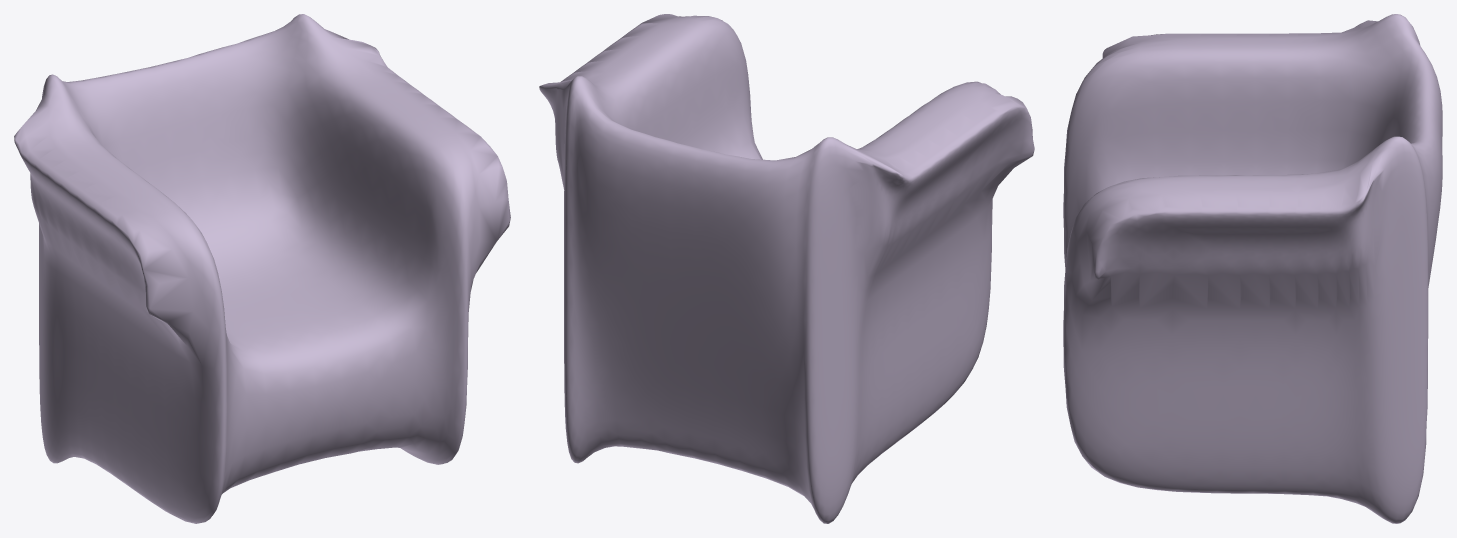
Rendered from chair.fbx.
The picture shows the model from 3 angles, left to right: view 1: azimuth 30°, elevation 25°; view 2: azimuth 150°, elevation 25°; view 3: azimuth 270°, elevation 25°; orthographic projection.
Visible parts, largest first — view 1: Cube; view 2: Cube; view 3: Cube.
Boxes of the visible parts, x1,y1,x2,y2 form: Cube: [14, 14, 510, 523]; Cube: [539, 14, 1034, 523]; Cube: [1063, 14, 1442, 523].
Size of the model in its own units: 271 by 274 by 243.
